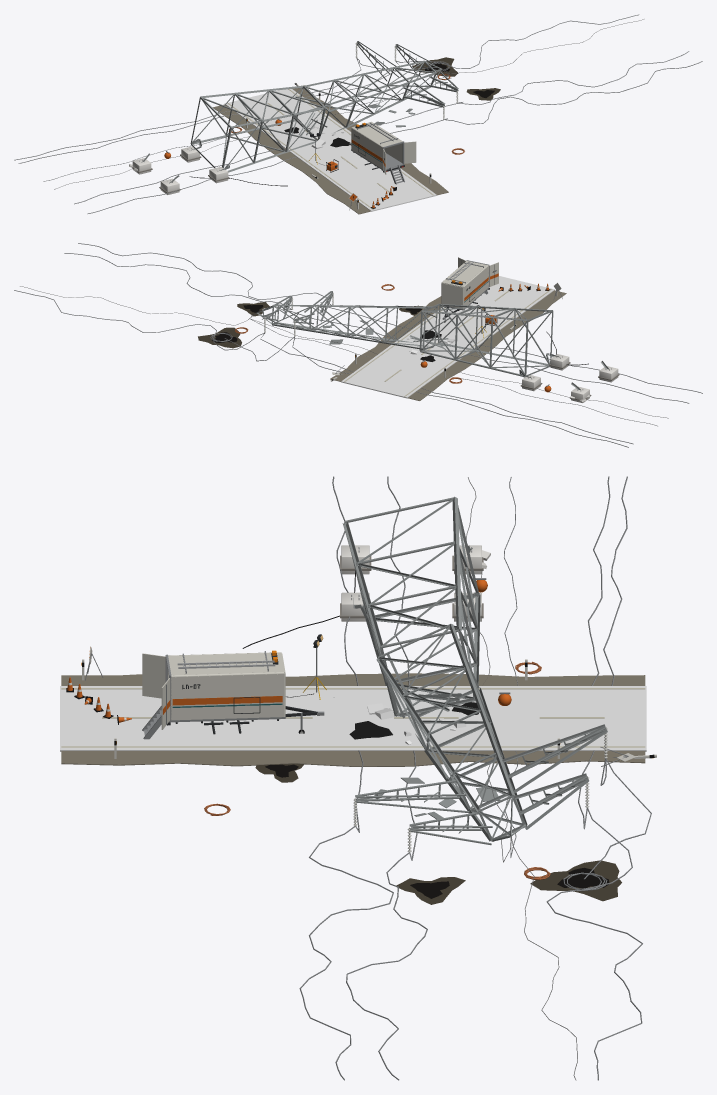
The model's file is toppled-pylon.glb.
3 renders of one model, top to bottom at view 1: azimuth 30°, elevation 25°; view 2: azimuth 150°, elevation 25°; view 3: azimuth 270°, elevation 25°, orthographic. The views are drawn at different scales.
Parts seen in each view (by area): view 1: C-1_-1_lod0, C0_0_lod0, C-1_0_lod0, C0_-1_lod0; view 2: C-1_-1_lod0, C-1_0_lod0, C0_0_lod0, C0_-1_lod0; view 3: C-1_-1_lod0, C0_0_lod0, C-1_0_lod0, C0_-1_lod0.
Part boxes in pixels (x1,y1,x2,y2): C-1_-1_lod0: [87, 89, 447, 213]; C0_0_lod0: [212, 14, 689, 214]; C-1_0_lod0: [14, 58, 462, 204]; C0_-1_lod0: [443, 61, 702, 154]; C-1_-1_lod0: [328, 257, 702, 398]; C-1_0_lod0: [250, 303, 689, 447]; C0_0_lod0: [14, 253, 566, 400]; C0_-1_lod0: [78, 243, 394, 305]; C-1_-1_lod0: [60, 476, 646, 832]; C0_0_lod0: [61, 673, 651, 1080]; C-1_0_lod0: [345, 476, 656, 862]; C0_-1_lod0: [204, 798, 393, 1080].
Size of what is drawn, in the model's own units: 66.02 by 6.45 by 27.62.
